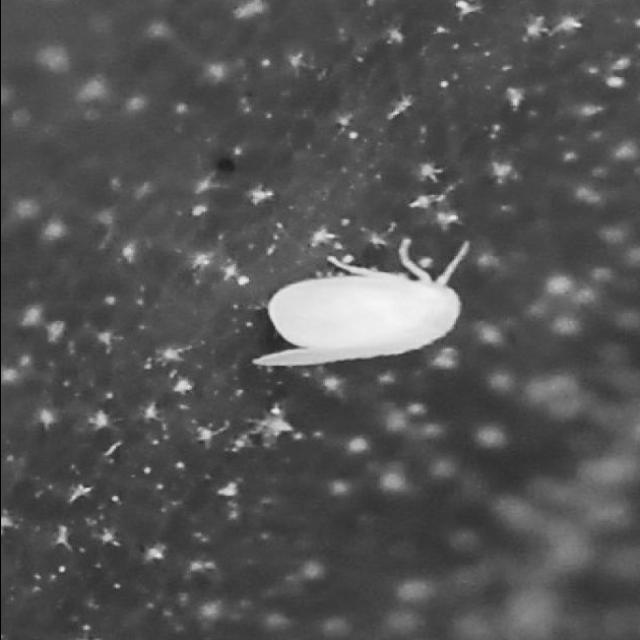Whitefly: (244, 231, 474, 369)
